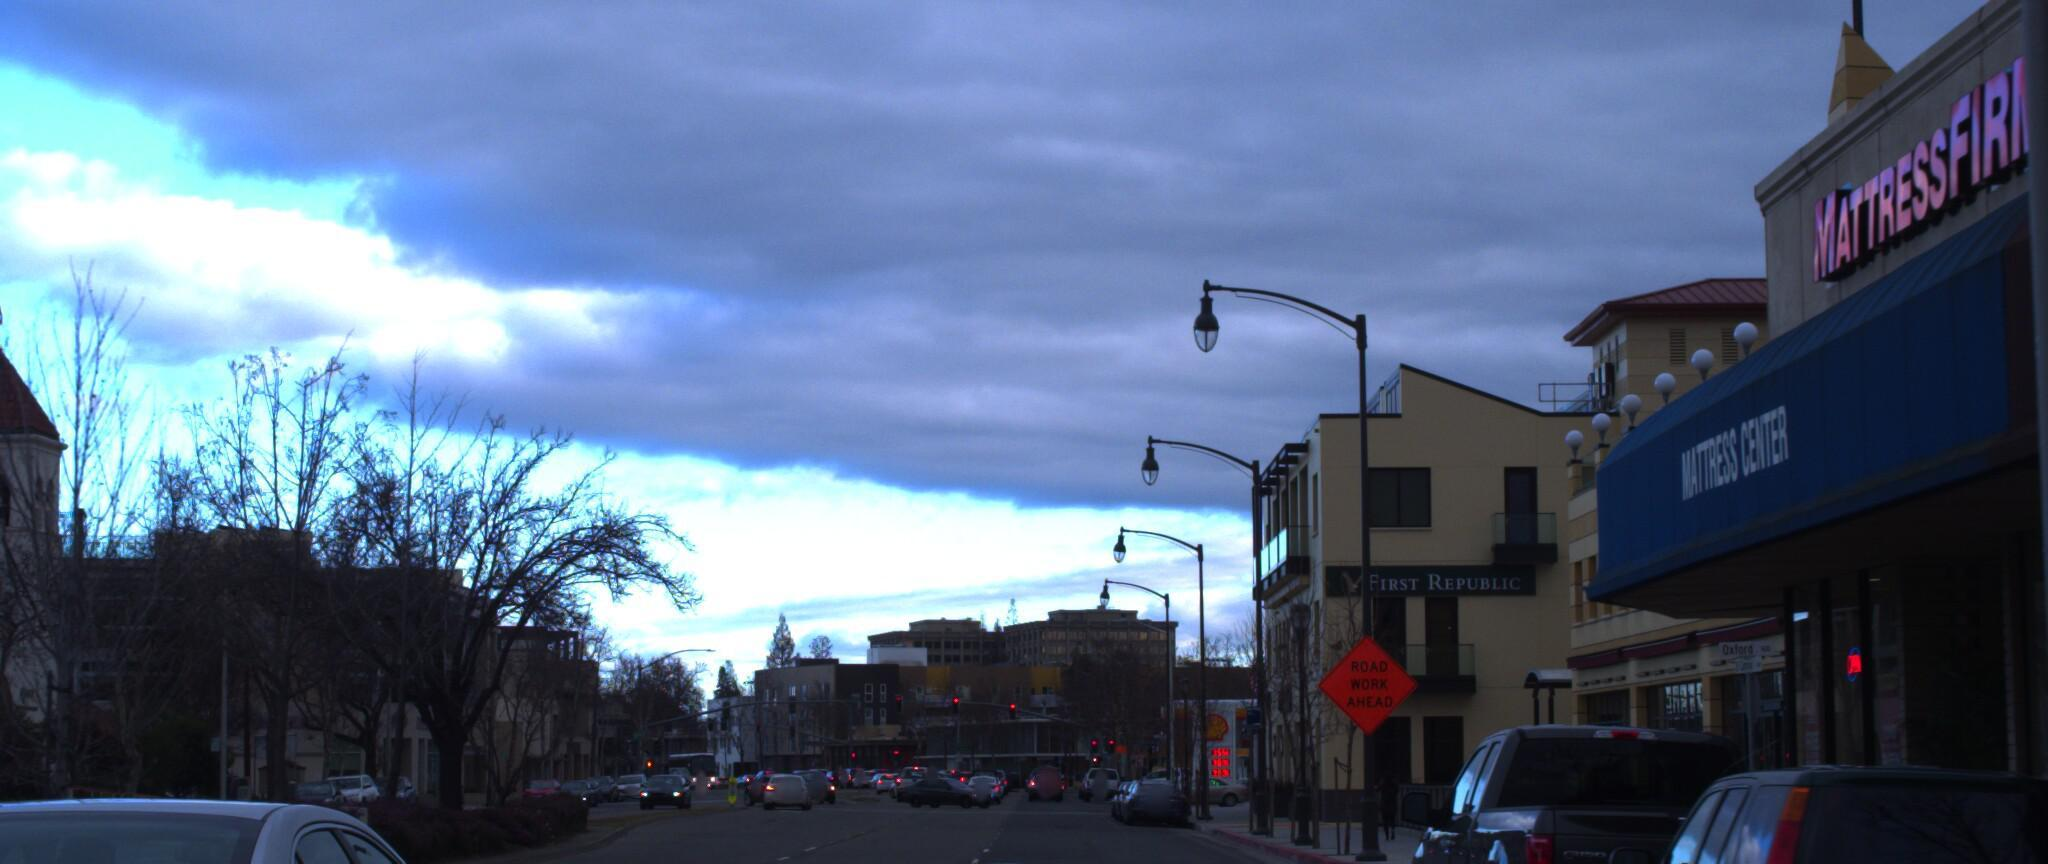car: (1571, 752, 2048, 864), (0, 805, 539, 864)
truck: (1368, 707, 1890, 864)
